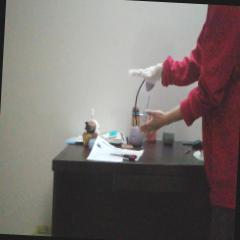gloved: (127, 62, 162, 82)
not-gloved: (139, 109, 166, 136)
